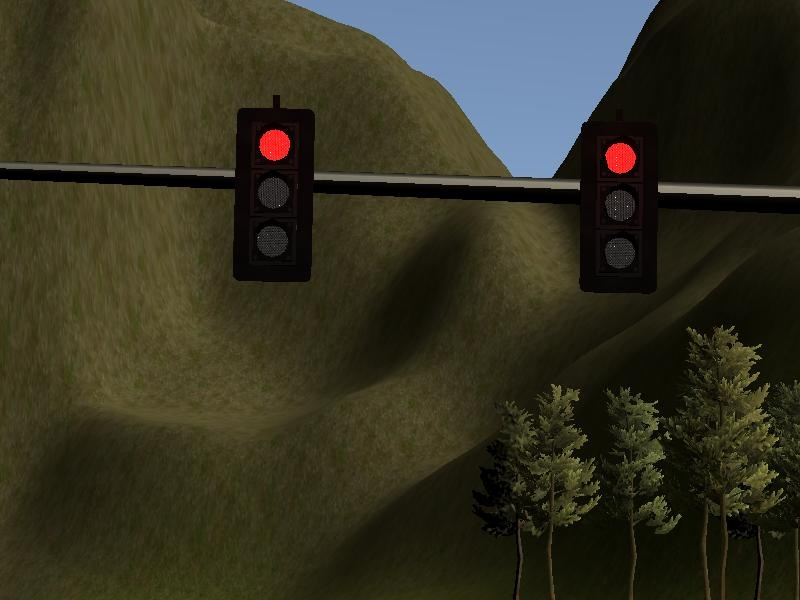RED: (578, 121, 657, 295), (235, 106, 313, 281)
